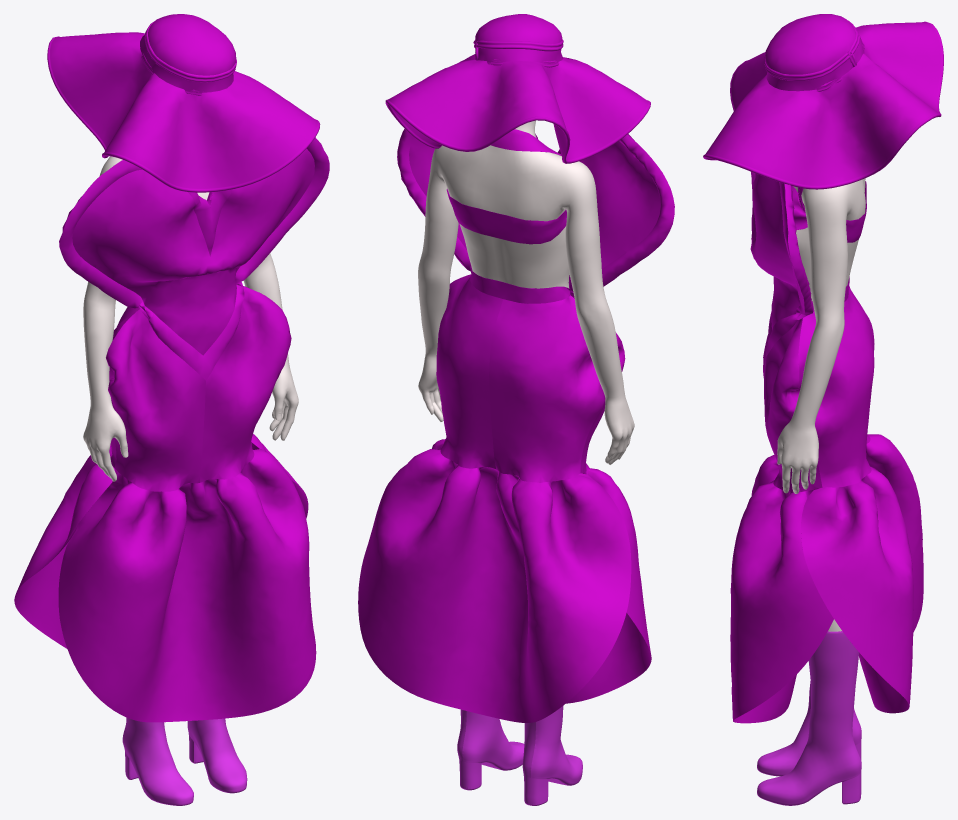
3 renders of one model, left to right at view 1: azimuth 30°, elevation 25°; view 2: azimuth 150°, elevation 25°; view 3: azimuth 270°, elevation 25°, orthographic.
Parts seen in each view (by area): view 1: cloth2_side0, cloth7_side0, cloth11_side0, cloth4_side0, cloth3_side0, cloth10_side0, mannequin0, zeta_accessory1, cloth8_side0, cloth1_side1, cloth1_side0, cloth7_side2 (+2 smaller); view 2: cloth1_side1, mannequin0, cloth5_side0, cloth7_side0, cloth6_side0, zeta_accessory1, cloth13_side1, cloth12_side1, cloth2_side1, cloth15_side0, cloth2_side0, cloth8_side0 (+5 smaller); view 3: cloth7_side0, cloth1_side1, cloth2_side0, mannequin0, zeta_accessory1, cloth6_side0, cloth11_side0, cloth8_side0, cloth3_side0, cloth7_side2, cloth1_side0, cloth12_side1 (+4 smaller).
Part boxes in pixels (x1=…): cloth2_side0: x1=58, y1=442, x2=316, y2=722; cloth7_side0: x1=50, y1=32, x2=317, y2=188; cloth11_side0: x1=72, y1=148, x2=314, y2=355; cloth4_side0: x1=106, y1=309, x2=205, y2=491; cloth3_side0: x1=200, y1=286, x2=291, y2=482; cloth10_side0: x1=60, y1=137, x2=329, y2=380; mannequin0: x1=83, y1=156, x2=298, y2=481; zeta_accessory1: x1=122, y1=717, x2=247, y2=805; cloth8_side0: x1=148, y1=14, x2=236, y2=75; cloth1_side1: x1=16, y1=434, x2=299, y2=591; cloth1_side0: x1=14, y1=443, x2=308, y2=648; cloth7_side2: x1=47, y1=36, x2=320, y2=192; cloth1_side1: x1=358, y1=439, x2=631, y2=722; mannequin0: x1=418, y1=120, x2=634, y2=464; cloth5_side0: x1=489, y1=295, x2=604, y2=482; cloth7_side0: x1=388, y1=54, x2=648, y2=159; cloth6_side0: x1=436, y1=274, x2=503, y2=468; zeta_accessory1: x1=457, y1=705, x2=582, y2=805; cloth13_side1: x1=409, y1=137, x2=660, y2=288; cloth12_side1: x1=397, y1=129, x2=674, y2=298; cloth2_side1: x1=566, y1=613, x2=651, y2=703; cloth15_side0: x1=448, y1=195, x2=566, y2=244; cloth2_side0: x1=582, y1=468, x2=650, y2=653; cloth8_side0: x1=475, y1=14, x2=562, y2=43; cloth7_side0: x1=705, y1=22, x2=940, y2=185; cloth1_side1: x1=801, y1=434, x2=923, y2=705; cloth2_side0: x1=730, y1=455, x2=833, y2=720; mannequin0: x1=777, y1=178, x2=865, y2=631; zeta_accessory1: x1=757, y1=631, x2=861, y2=805; cloth6_side0: x1=791, y1=290, x2=874, y2=487; cloth11_side0: x1=750, y1=172, x2=800, y2=329; cloth8_side0: x1=765, y1=14, x2=855, y2=74; cloth3_side0: x1=764, y1=318, x2=822, y2=492; cloth7_side2: x1=703, y1=21, x2=943, y2=189; cloth1_side0: x1=820, y1=487, x2=909, y2=713; cloth12_side1: x1=784, y1=184, x2=813, y2=319.
Bounding box in the file's own units: 0.6985 × 1.85 × 0.5272.
Materials: 3 (1 with a texture image).
